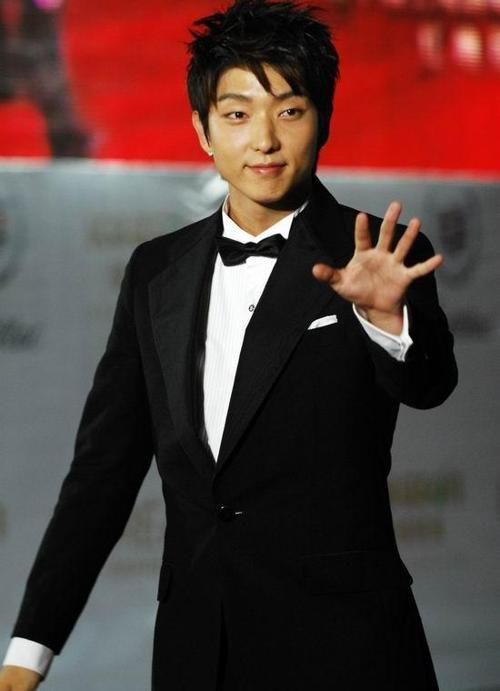person: (1, 2, 458, 691)
